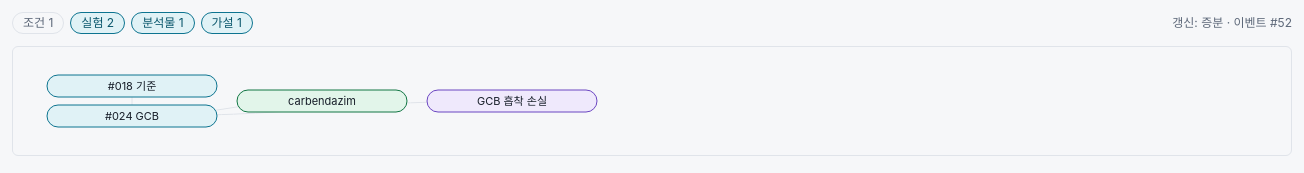
Scenario: KnowledgeGraphView › shows an empty state when every type is filtered out
The image size is (1304, 173).
Step 1. Click the button "실험 2" → click(98, 23), box [70, 12, 125, 34]
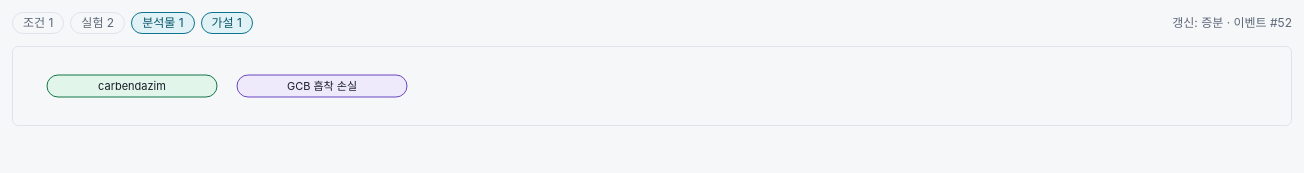
Step 2. Click the button "분석물 1" → click(163, 23), box [131, 12, 195, 34]
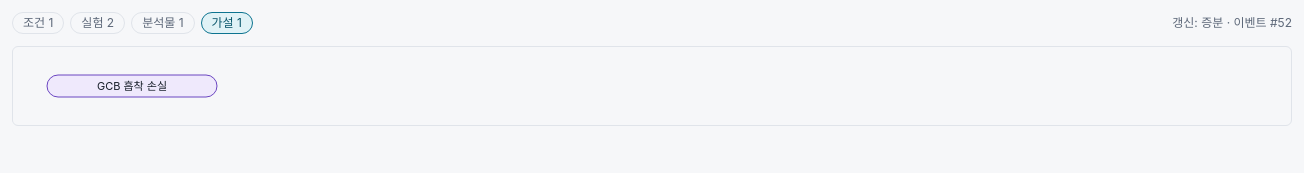
Step 3. Click the button "가설 1" → click(227, 23), box [200, 12, 253, 34]
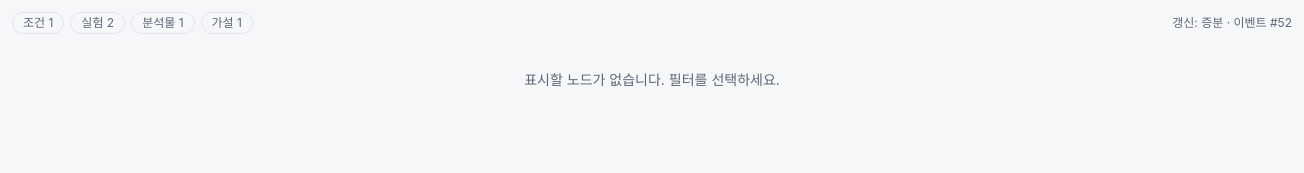
Expected: the text "표시할 노드가 없습니다. 필터를 선택하세요." is shown, [524, 71, 780, 88]
